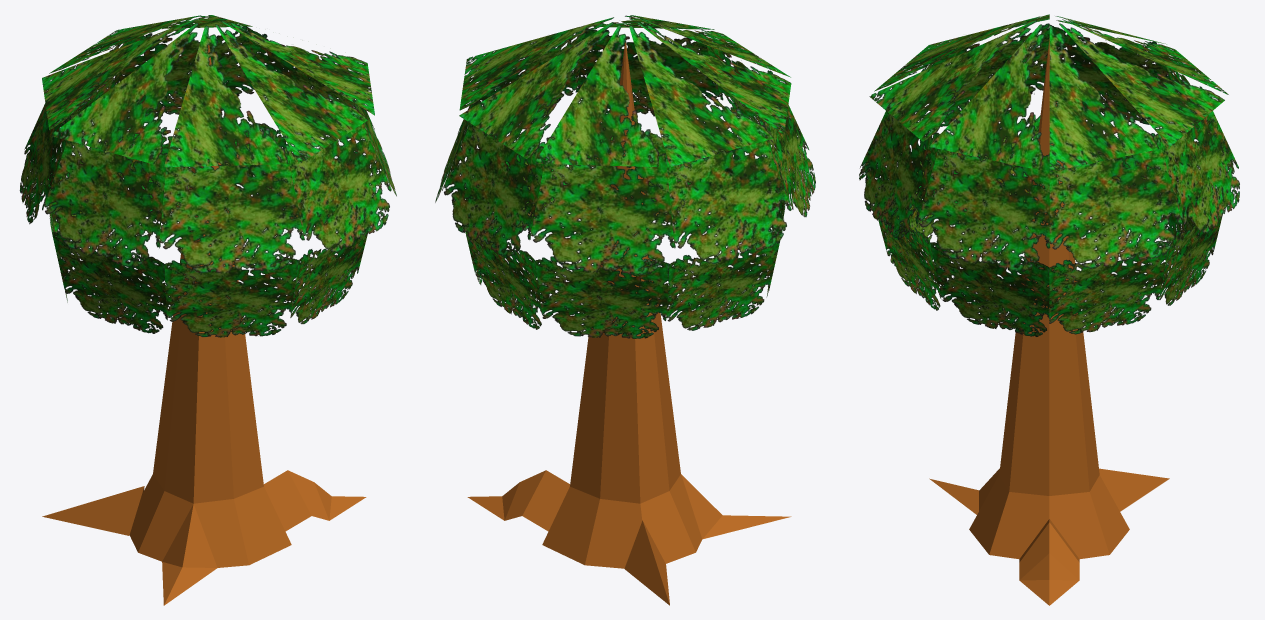
Rendered from oaktree2.glb.
3 renders of one model, left to right at view 1: azimuth 30°, elevation 25°; view 2: azimuth 150°, elevation 25°; view 3: azimuth 270°, elevation 25°, orthographic.
Parts seen in each view (by area): view 1: leaves, tree; view 2: leaves, tree; view 3: leaves, tree.
Part boxes in pixels (x1,y1,x2,y2): leaves: (19, 15, 396, 337); tree: (42, 45, 366, 605); leaves: (435, 15, 815, 338); tree: (467, 39, 791, 605); leaves: (859, 14, 1239, 336); tree: (929, 38, 1169, 605).
Bounding box in the file's own units: 2.58 × 3.65 × 2.58.
2 materials, 1 textured.
